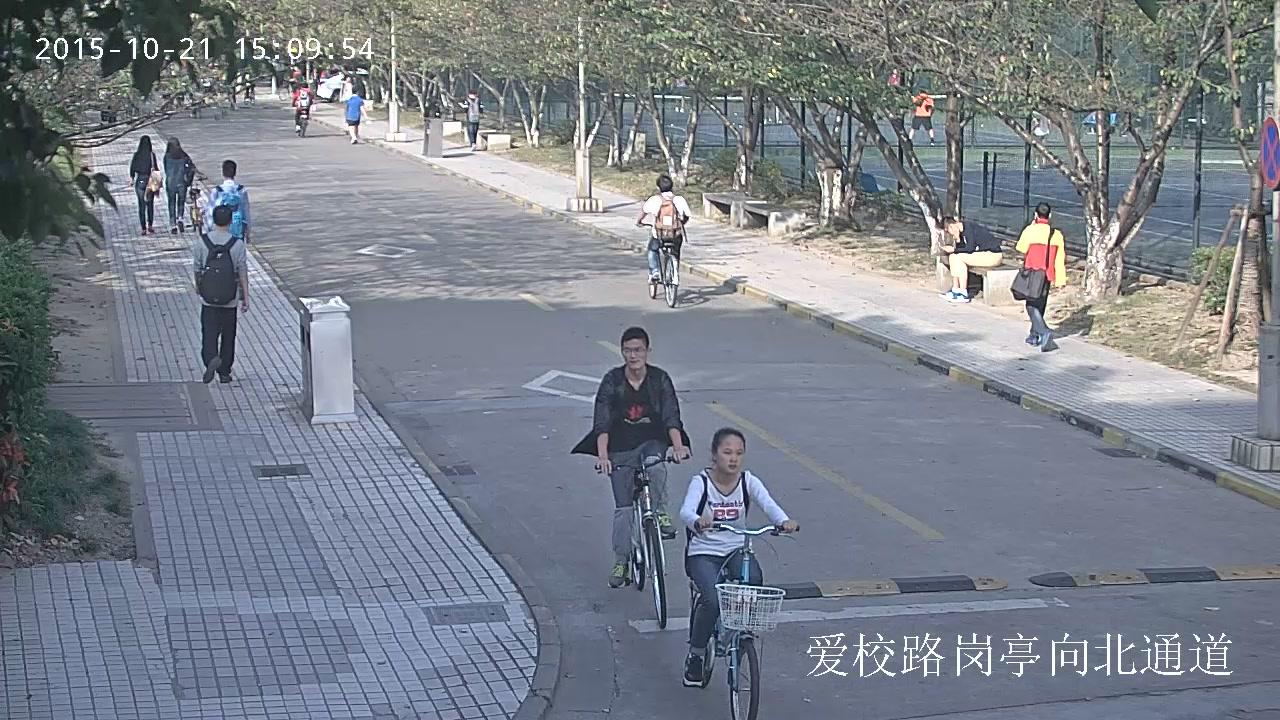face: (717, 434, 743, 474), (622, 340, 646, 368), (944, 226, 956, 236)
